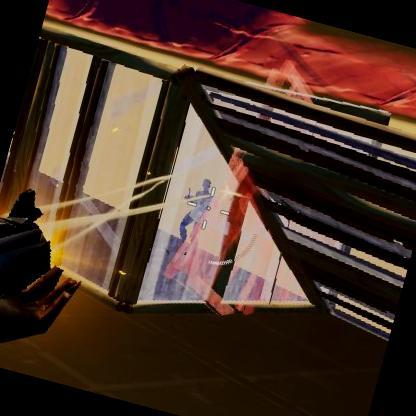person: (180, 176, 221, 248)
